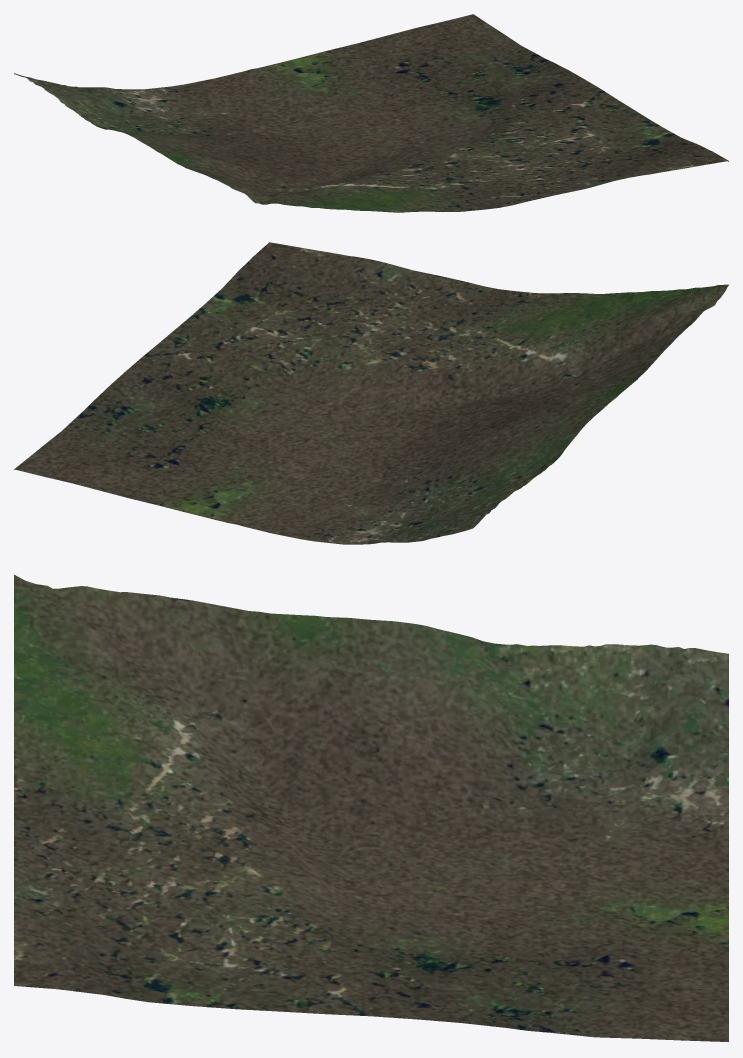
The picture shows the model from 3 angles, top to bottom: view 1: azimuth 30°, elevation 25°; view 2: azimuth 150°, elevation 25°; view 3: azimuth 270°, elevation 25°; orthographic projection. The views are drawn at different scales.
Size of the model in its own units: 500 by 117 by 481.
1 material, 1 textured.
